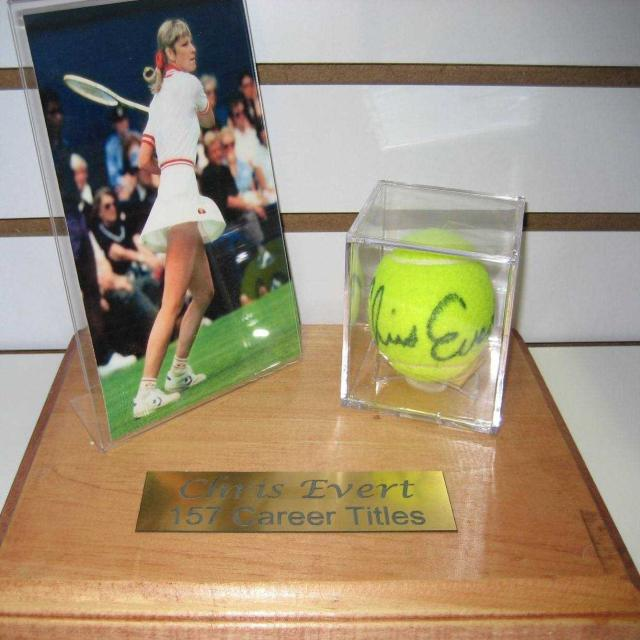Tennis_Ball: (371, 238, 492, 385)
